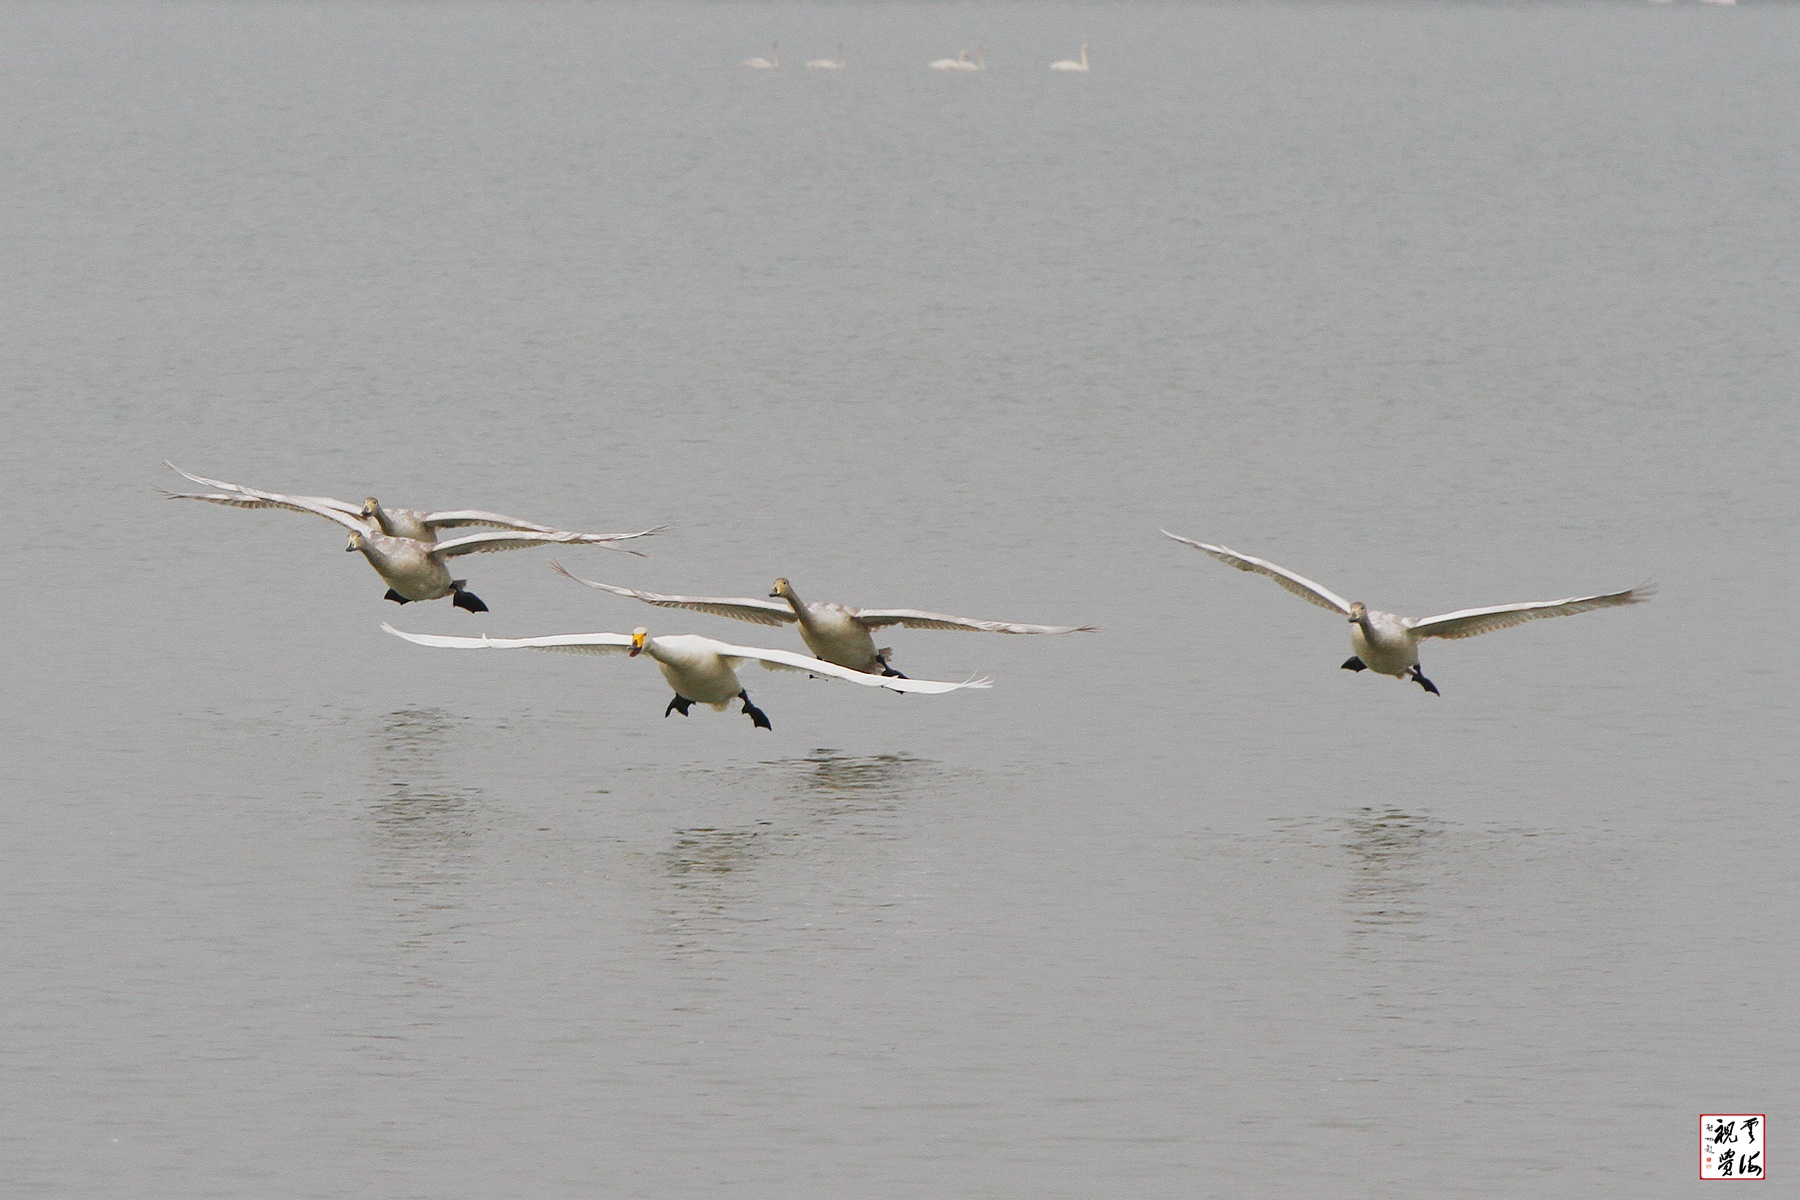bird: (1162, 525, 1659, 733), (162, 451, 668, 608), (549, 550, 1101, 692), (388, 617, 1008, 730), (154, 483, 646, 567)
